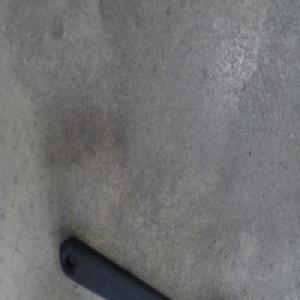AdjustableWrench: (59, 237, 171, 299)
